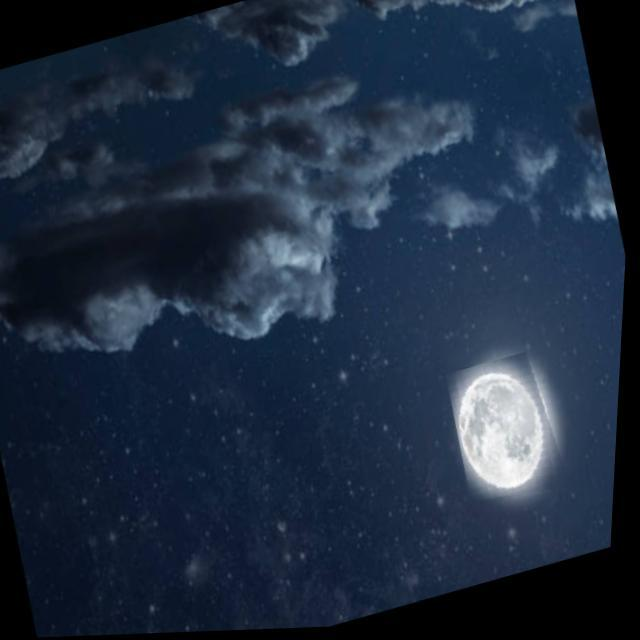moon: (444, 350, 580, 513)
